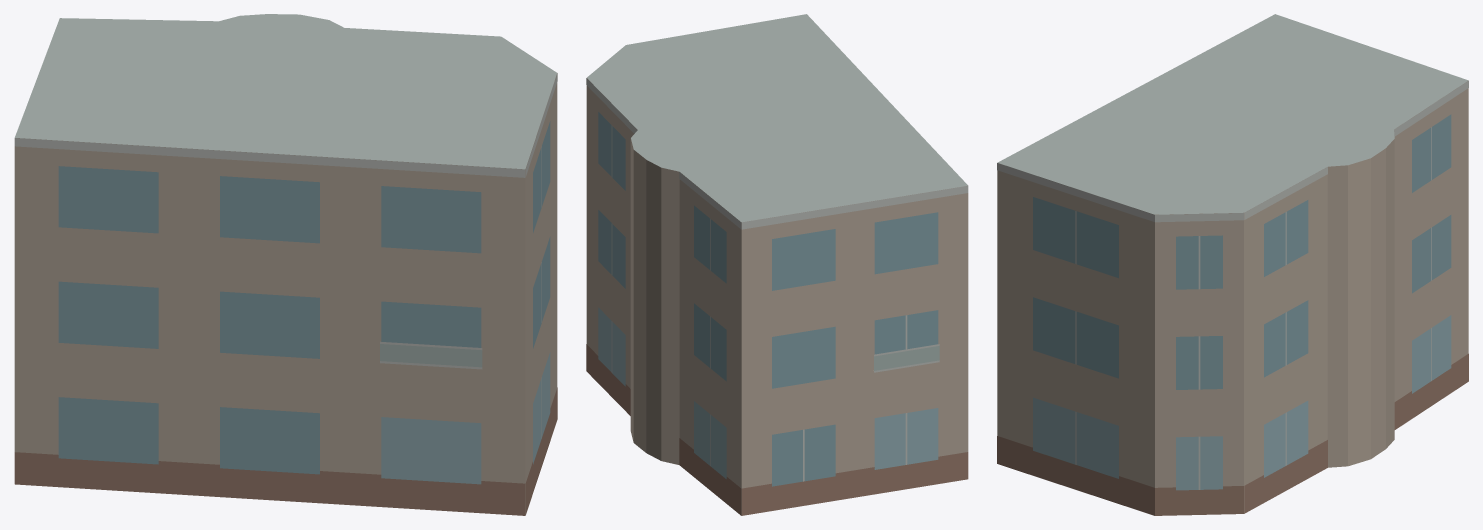
The model's file is survey-upis-32830456.glb.
3 views of the same model, side by side, from view 1: azimuth 30°, elevation 25°; view 2: azimuth 150°, elevation 25°; view 3: azimuth 270°, elevation 25° (orthographic). The views are drawn at different scales.
Parts seen in each view (by area): view 1: survey-upis-32830456.tmp; view 2: survey-upis-32830456.tmp; view 3: survey-upis-32830456.tmp.
Part boxes in pixels (x1,y1,x2,y2): survey-upis-32830456.tmp: [14, 14, 557, 515]; survey-upis-32830456.tmp: [586, 14, 968, 515]; survey-upis-32830456.tmp: [997, 14, 1468, 515].
Size of the model in its own units: 14.02 by 9.8 by 13.92.
